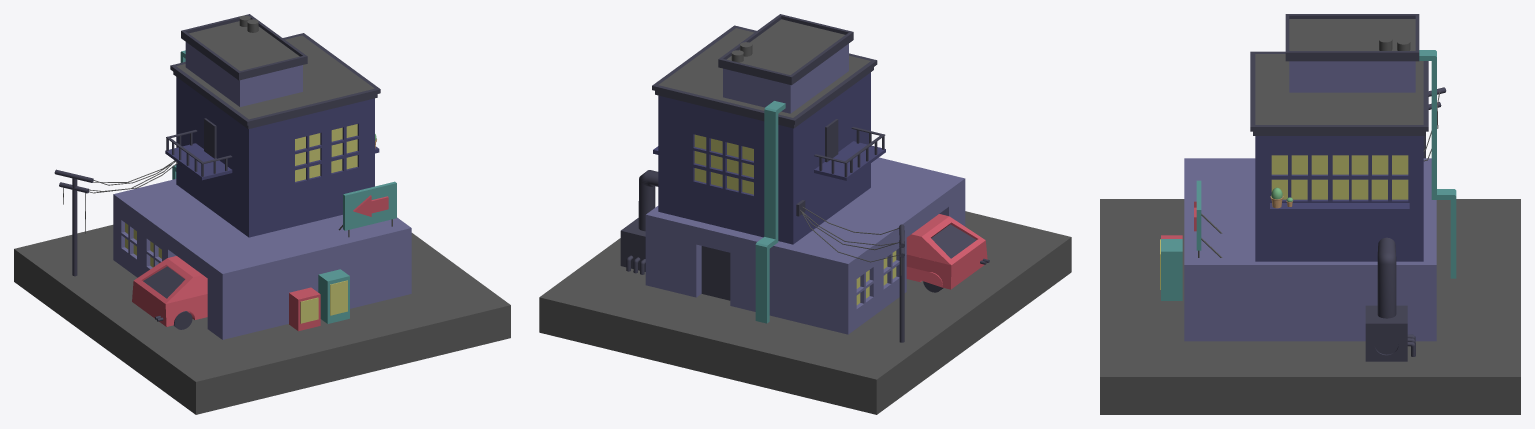
Rendered from House_3.fbx.
3 renders of one model, left to right at view 1: azimuth 30°, elevation 25°; view 2: azimuth 150°, elevation 25°; view 3: azimuth 270°, elevation 25°, orthographic. The views are drawn at different scales.
Parts seen in each view (by area): view 1: House_Tile_3, House_2, House_6, House_3, Car, Vending_machines, Advertisement, Electricity; view 2: House_Tile_3, House_2, House_6, House_3, Car, Cables, Airfilter, Electricity; view 3: House_Tile_3, House_2, House_6, House_3, Airfilter, Cables, Vending_machines, Advertisement.
Boxes of the visible parts, box(x1,y1,x2,y2) form: House_Tile_3: box(14, 225, 510, 414); House_2: box(165, 33, 380, 237); House_6: box(113, 179, 411, 339); House_3: box(181, 14, 307, 106); Car: box(132, 256, 207, 329); Vending_machines: box(289, 269, 349, 331); Advertisement: box(338, 181, 396, 237); Electricity: box(54, 160, 182, 276); House_Tile_3: box(539, 211, 1071, 414); House_2: box(652, 25, 885, 244); House_6: box(645, 157, 965, 334); House_3: box(718, 14, 853, 113); Car: box(906, 214, 989, 292); Cables: box(755, 101, 785, 323); Airfilter: box(620, 170, 658, 274); Electricity: box(796, 200, 904, 342); House_Tile_3: box(1100, 199, 1520, 414); House_2: box(1250, 51, 1428, 261); House_6: box(1184, 158, 1436, 341); House_3: box(1285, 14, 1419, 92); Airfilter: box(1365, 237, 1415, 361); Cables: box(1419, 50, 1456, 278); Vending_machines: box(1160, 235, 1182, 300); Advertisement: box(1194, 180, 1222, 257).
Size of the model in its own units: 10 by 7.85 by 10.
